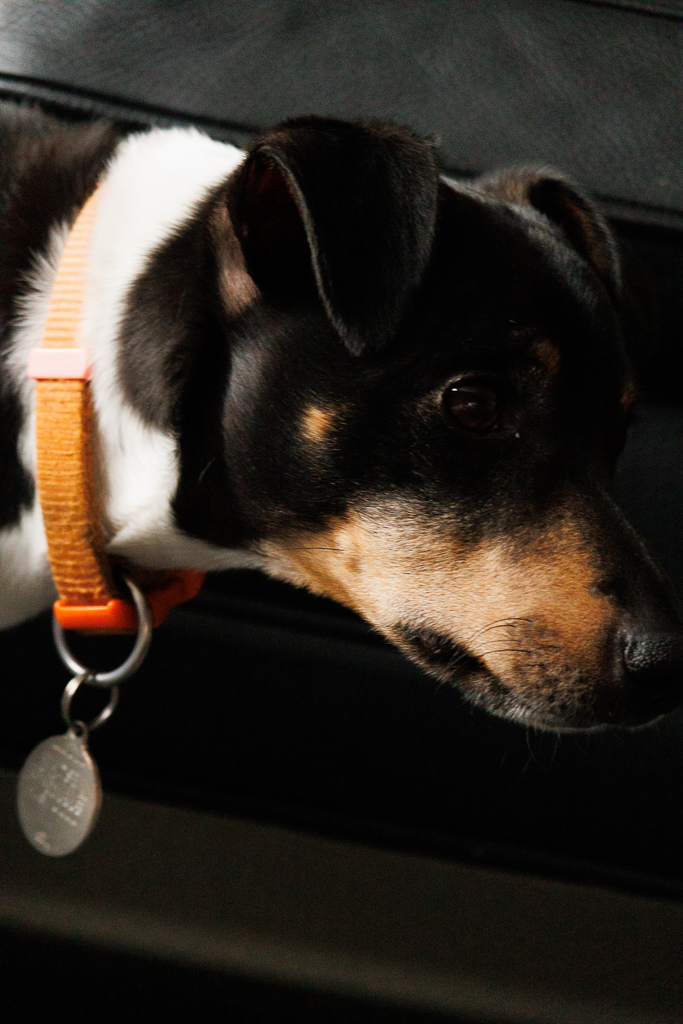Dog: (0, 84, 683, 873)
